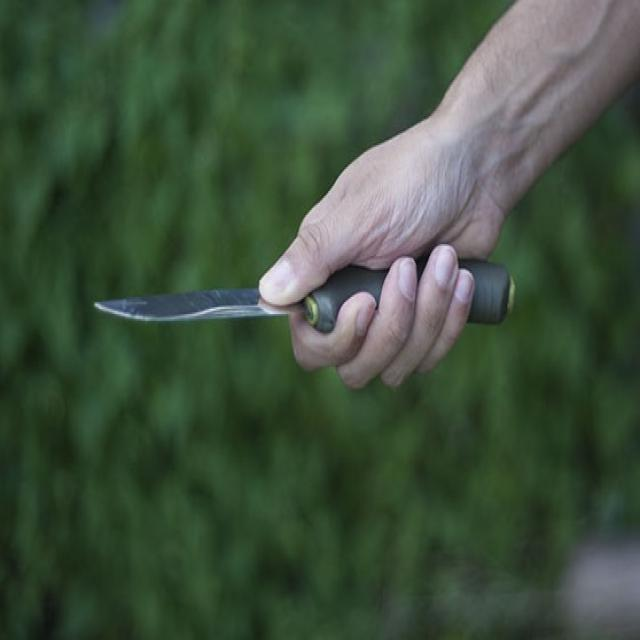knife: (92, 278, 527, 332)
